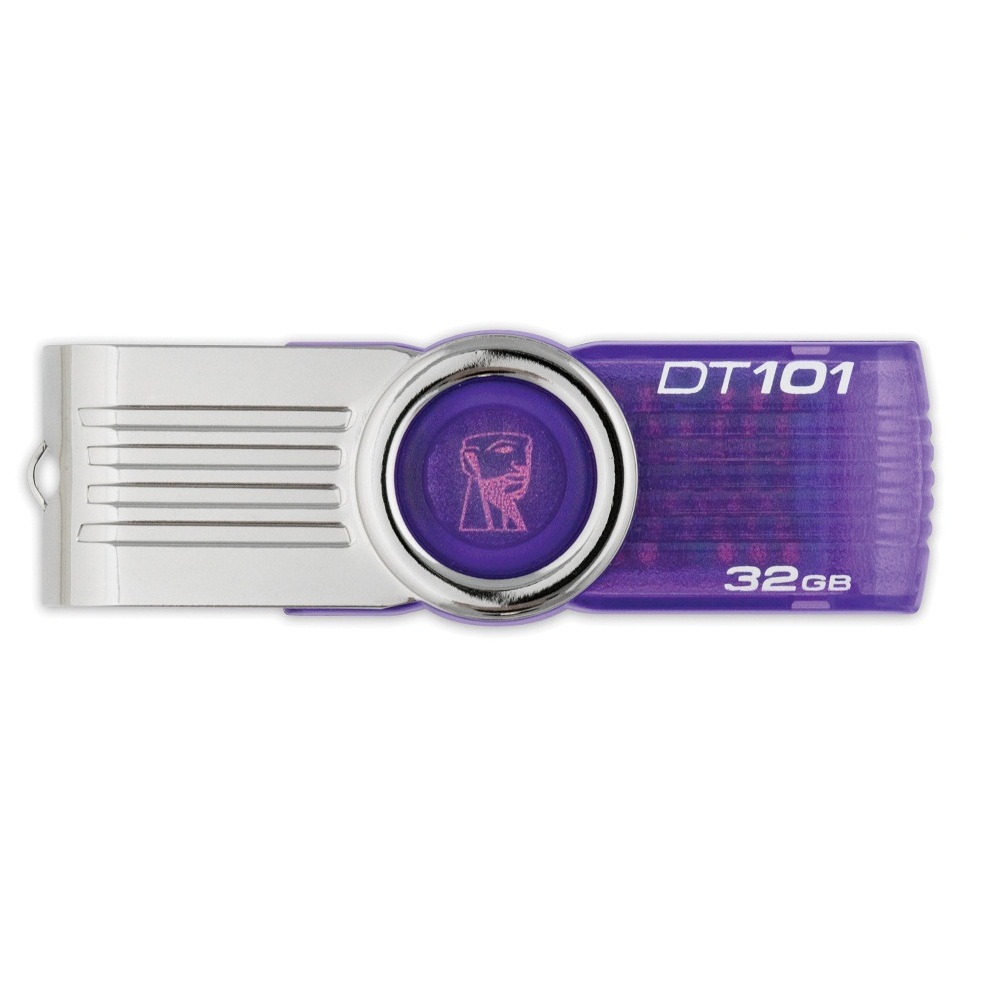Kingston: (442, 409, 543, 551)
